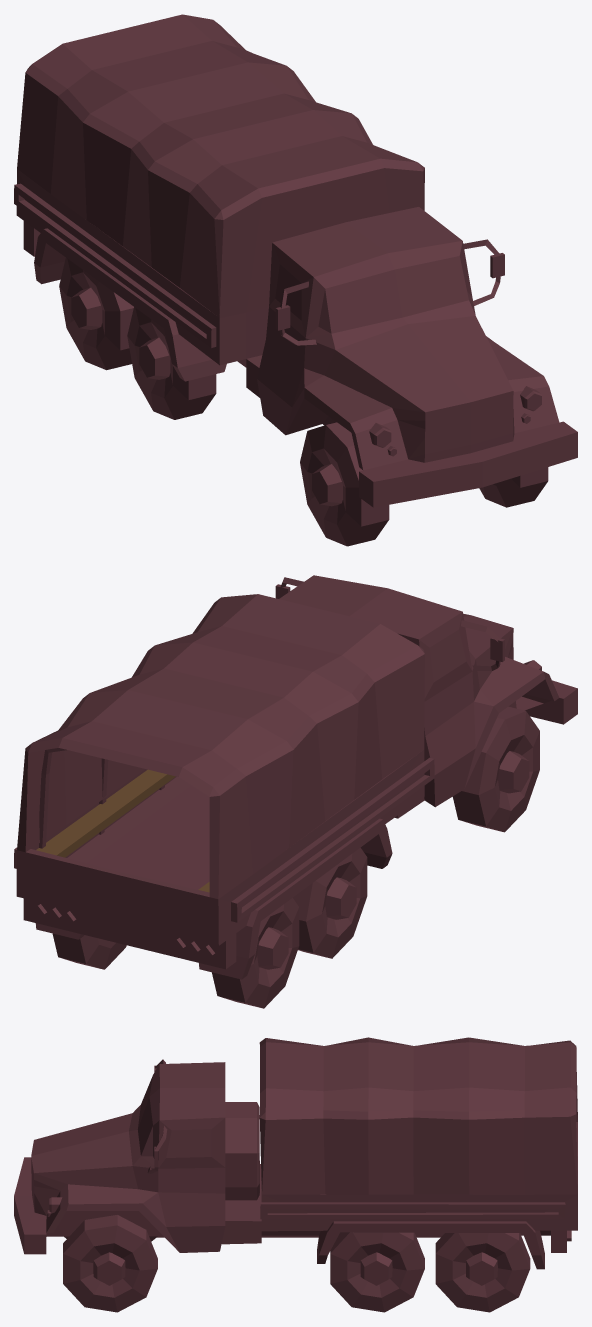
File: military-truck-cover.fbx
3 renders of one model, top to bottom at view 1: azimuth 30°, elevation 25°; view 2: azimuth 150°, elevation 25°; view 3: azimuth 270°, elevation 25°, orthographic. The views are drawn at different scales.
Visible parts, largest first — view 1: military-truck-cover-base, military-truck-cover-cover, military-truck-cover-wheel_FR, military-truck-cover-wheel_BR2, military-truck-cover-wheel_BR1, military-truck-cover-wheel_FL; view 2: military-truck-cover-cover, military-truck-cover-base, military-truck-cover-wheel_FR, military-truck-cover-wheel_BR1, military-truck-cover-wheel_BR2, military-truck-cover-wheel_LR2; view 3: military-truck-cover-cover, military-truck-cover-base, military-truck-cover-wheel_FL, military-truck-cover-wheel_LR1, military-truck-cover-wheel_LR2.
Part boxes in pixels (x1,y1,x2,y2): military-truck-cover-base: (14,169,577,507); military-truck-cover-cover: (17,14,424,317); military-truck-cover-wheel_FR: (300,422,389,546); military-truck-cover-wheel_BR2: (59,258,133,370); military-truck-cover-wheel_BR1: (127,307,216,419); military-truck-cover-wheel_FL: (479,467,548,507); military-truck-cover-cover: (17,594,424,899); military-truck-cover-base: (14,575,577,979); military-truck-cover-wheel_FR: (452,706,539,832); military-truck-cover-wheel_BR1: (293,847,367,958); military-truck-cover-wheel_BR2: (212,898,299,1008); military-truck-cover-wheel_LR2: (52,933,126,969); military-truck-cover-cover: (259,1037,577,1194); military-truck-cover-base: (14,1059,577,1269); military-truck-cover-wheel_FL: (63,1215,157,1312); military-truck-cover-wheel_LR1: (330,1232,424,1312); military-truck-cover-wheel_LR2: (435,1233,530,1312).
Size of the model in its own units: 2.83 by 3.25 by 7.88.
